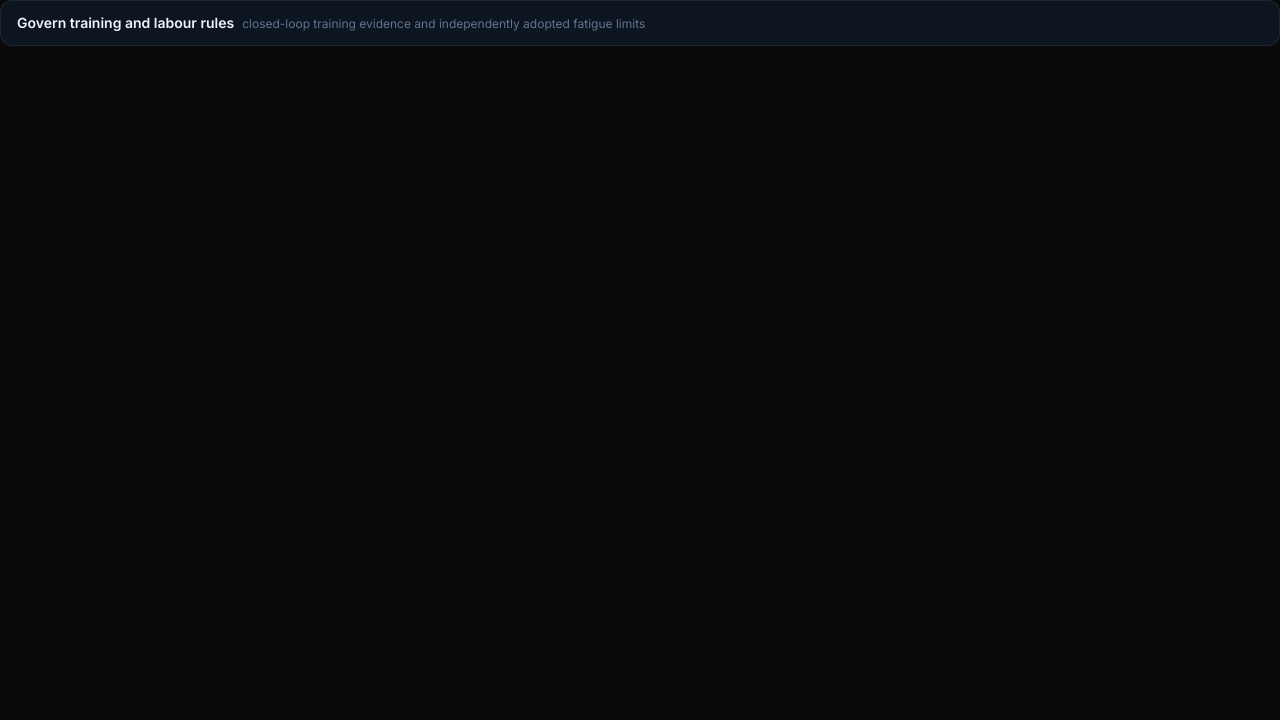
Test case: WorkforceGovernanceControls › makes governed training and labour-rule lifecycle controls customer-reachable
What coordinates should you click on to do the following:
click the heading "Govern training and labour rules"
I would click on:
 (331, 22)
Its box is [17, 14, 645, 31].
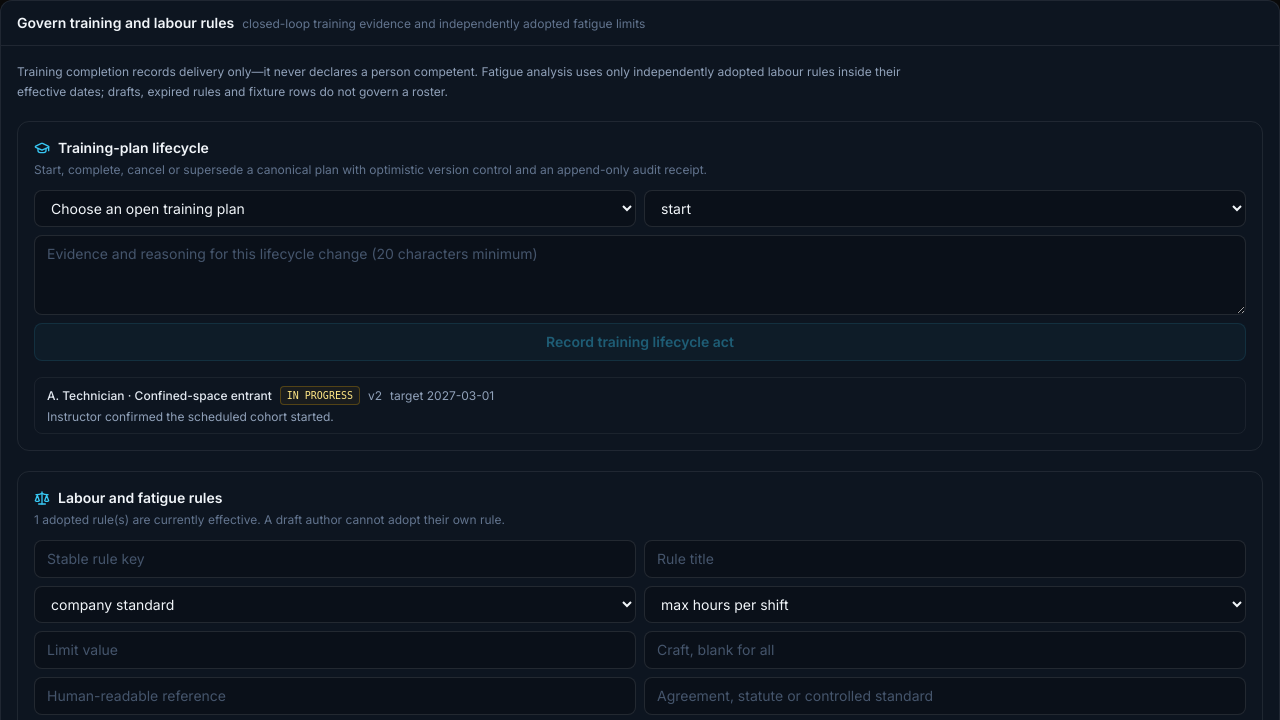
Expected: the button "Record training lifecycle act" is shown, [34, 323, 1246, 361]
Expected: the text "Training completion records delivery only—it never declares" is shown, [17, 64, 900, 98]
Expected: the text "a draft author cannot adopt their own rule" is shown, [39, 512, 505, 527]
